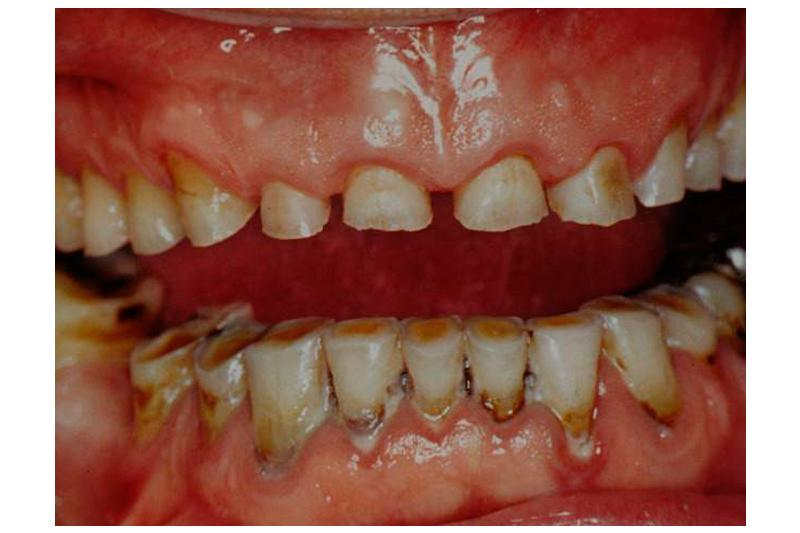LL1BC_decay: (597, 297, 682, 433)
LLCI_decay: (405, 314, 468, 434)
LLC_decay: (529, 309, 601, 458)
LLLI_decay: (464, 307, 528, 427)
LR1BC_decay: (125, 326, 186, 448)
LRCI_decay: (328, 306, 404, 444)
LRC_decay: (192, 316, 263, 441)
LRLI_decay: (249, 314, 330, 485)
ULCI_healthy: (447, 141, 553, 238)
ULC_healthy: (635, 121, 697, 211)
ULLI_decay: (553, 132, 642, 235)
UR1BC_healthy: (121, 171, 185, 258)
URCI_healthy: (335, 148, 440, 239)
URC_healthy: (169, 151, 250, 255)
URLI_healthy: (255, 175, 332, 248)
